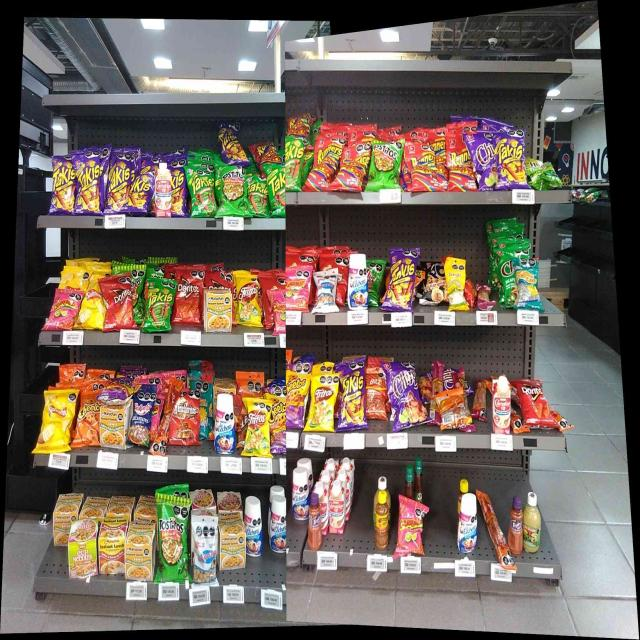bitzEnchilado90: (367, 370, 386, 420)
bitzEnchilado95: (480, 491, 506, 556), (157, 402, 172, 454)
bitzHabanero: (428, 360, 442, 424), (476, 281, 492, 310), (474, 380, 486, 418)
bokadosCacahuates: (134, 393, 152, 446)
botaneraChilito: (374, 491, 389, 549)
cheetosFlaminHot: (287, 362, 306, 429), (271, 387, 286, 452), (102, 380, 133, 400)
cheetosOriginal: (78, 394, 100, 445)
chipsFuego: (391, 362, 420, 426), (472, 132, 494, 189)
chipsJalapeno: (500, 249, 516, 308)
chipsPapatinas: (526, 159, 557, 187)
churrumais: (399, 501, 422, 554), (286, 266, 310, 311), (52, 291, 78, 329), (272, 290, 285, 333)
delPrimoSalsa: (524, 491, 541, 550)
doritosNacho: (519, 379, 549, 425), (106, 274, 130, 331), (176, 267, 200, 323)
fritosLimon: (247, 399, 269, 456), (311, 376, 334, 430), (237, 276, 260, 326)
leoCacahuates: (194, 516, 216, 584), (318, 268, 337, 311)
maruchanPollo: (128, 521, 156, 580), (219, 515, 244, 568), (102, 403, 128, 448), (205, 289, 231, 333)
maruchanRes: (100, 516, 125, 574)
nestleCarnation: (493, 378, 510, 433), (155, 163, 171, 216), (330, 482, 345, 532)
nestleLechera: (214, 394, 234, 452), (457, 494, 477, 550), (246, 498, 262, 558), (348, 254, 366, 307), (269, 496, 286, 551), (292, 469, 307, 518)
nissinCamaron: (70, 520, 97, 576)
popKarameladas: (424, 262, 446, 303)
productoAtras: (442, 391, 467, 426)
rancheritos: (174, 395, 198, 445)
rufflesQueso: (368, 261, 380, 304)
runners: (339, 144, 366, 191), (409, 143, 436, 190), (447, 132, 469, 189), (314, 136, 336, 190), (288, 112, 312, 136), (253, 140, 277, 162)
sabritasOriginal: (45, 392, 73, 446), (82, 281, 104, 329)
semillasCalabaza: (449, 259, 465, 311)
semillasGirasol: (517, 258, 539, 310)
tajinDulce: (309, 494, 321, 548), (510, 495, 522, 544)
takisFuego: (339, 363, 364, 428), (496, 132, 524, 188), (391, 248, 414, 310), (75, 153, 98, 213), (108, 154, 130, 213), (53, 157, 74, 214), (220, 121, 242, 162), (172, 157, 187, 216), (132, 174, 153, 214)
takisOriginal: (190, 166, 215, 217), (149, 279, 171, 329), (286, 136, 304, 190), (270, 164, 286, 215), (248, 172, 266, 215)
tostitos: (158, 496, 188, 580), (372, 142, 402, 190), (220, 167, 245, 216)
